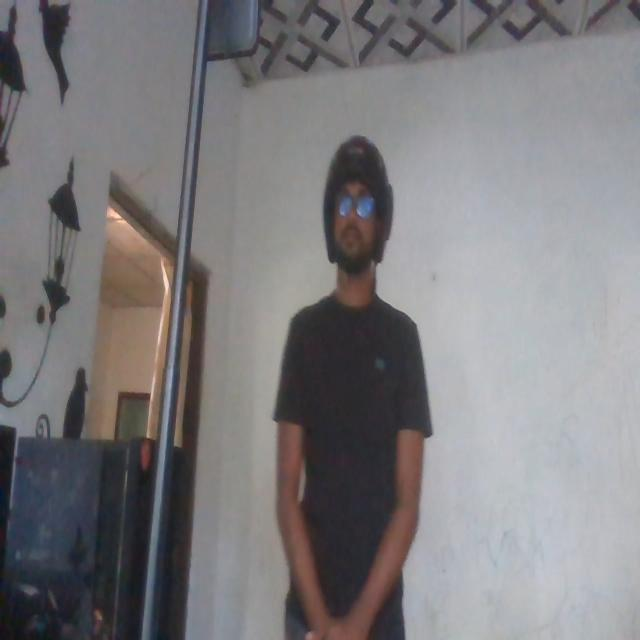Helmet_Wearer: (309, 130, 395, 298)
Person: (277, 128, 428, 640)
